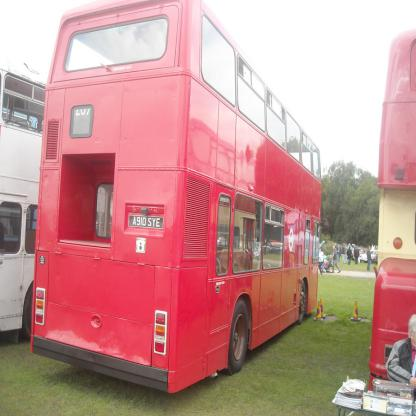Bus: (31, 0, 331, 395), (365, 27, 415, 396), (0, 56, 50, 343)
